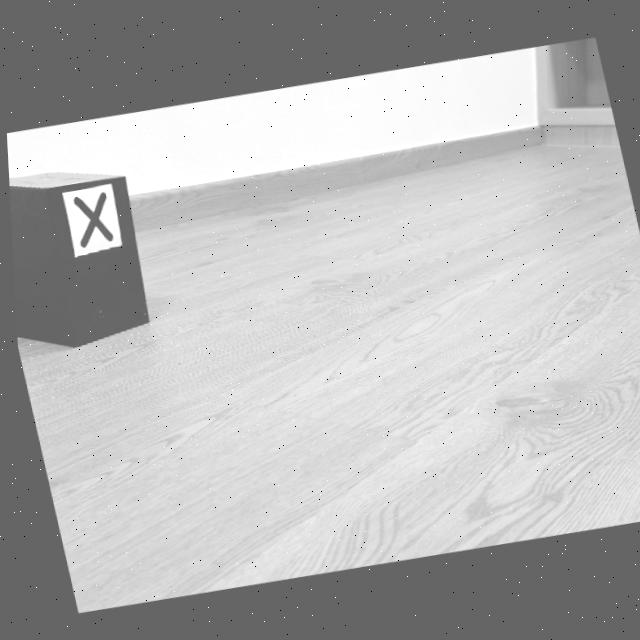X: (71, 191, 111, 247)
